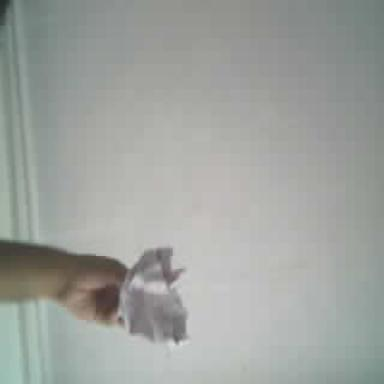paper: (119, 248, 186, 342)
